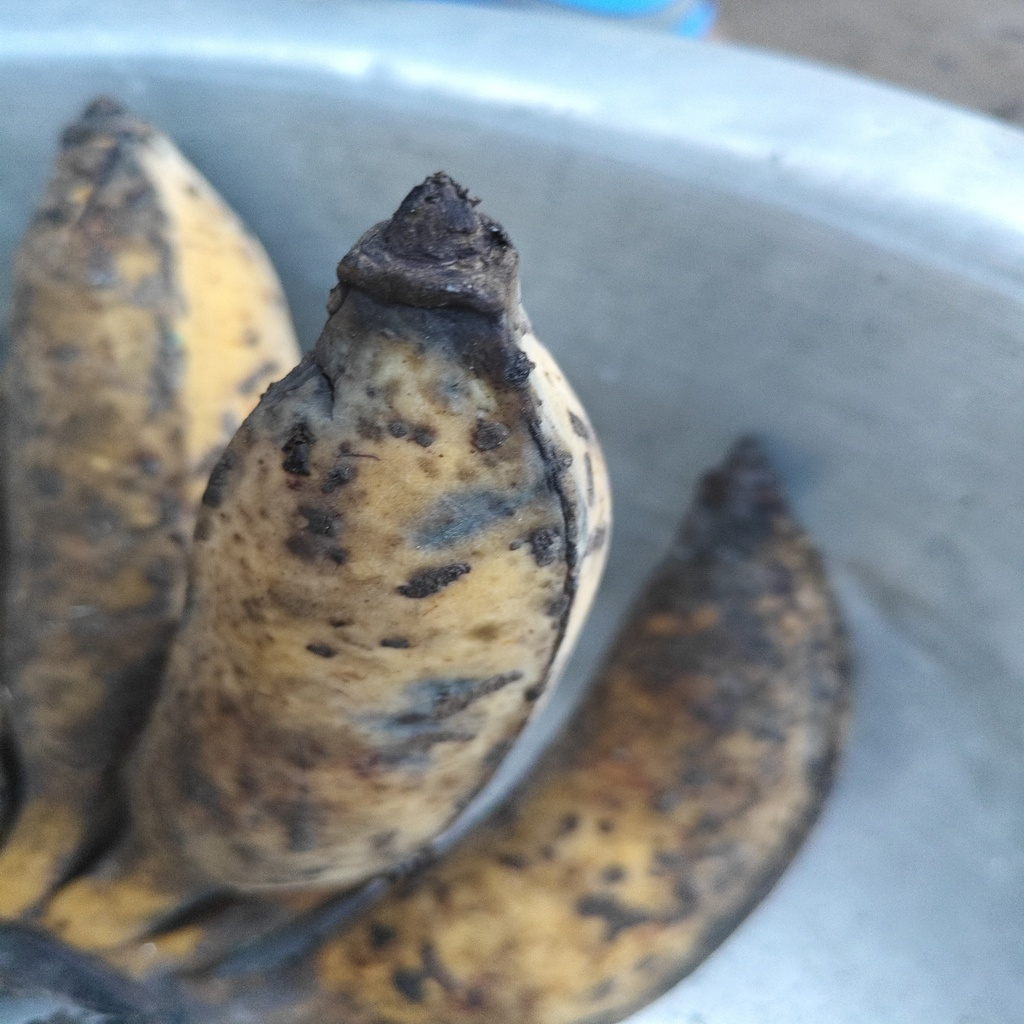unhealthy: (124, 189, 610, 885)
